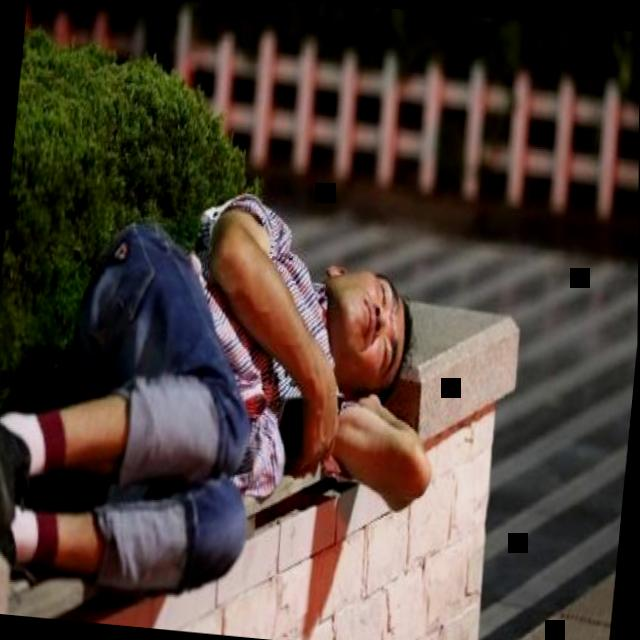Fall-Detected: (0, 148, 462, 624)
